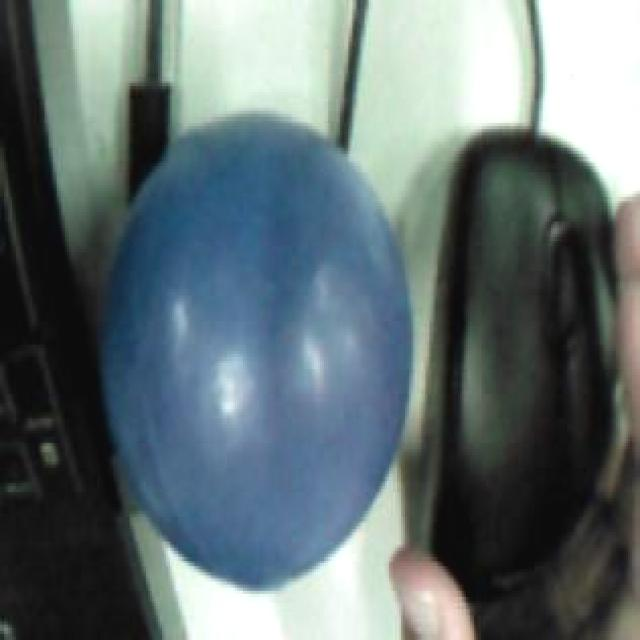BallPurple: (100, 109, 414, 593)
